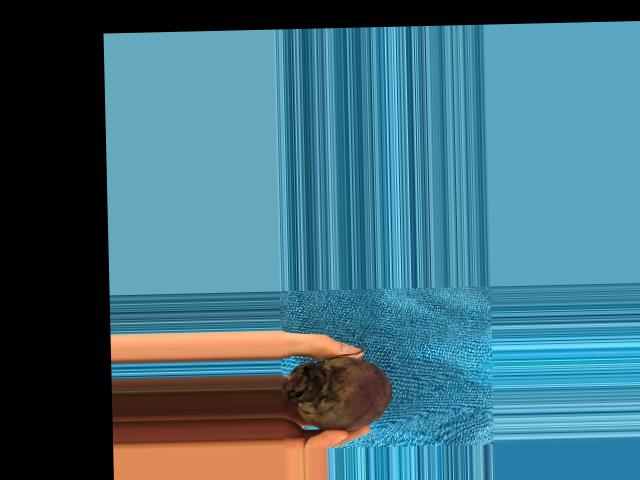beet: (282, 346, 392, 431)
